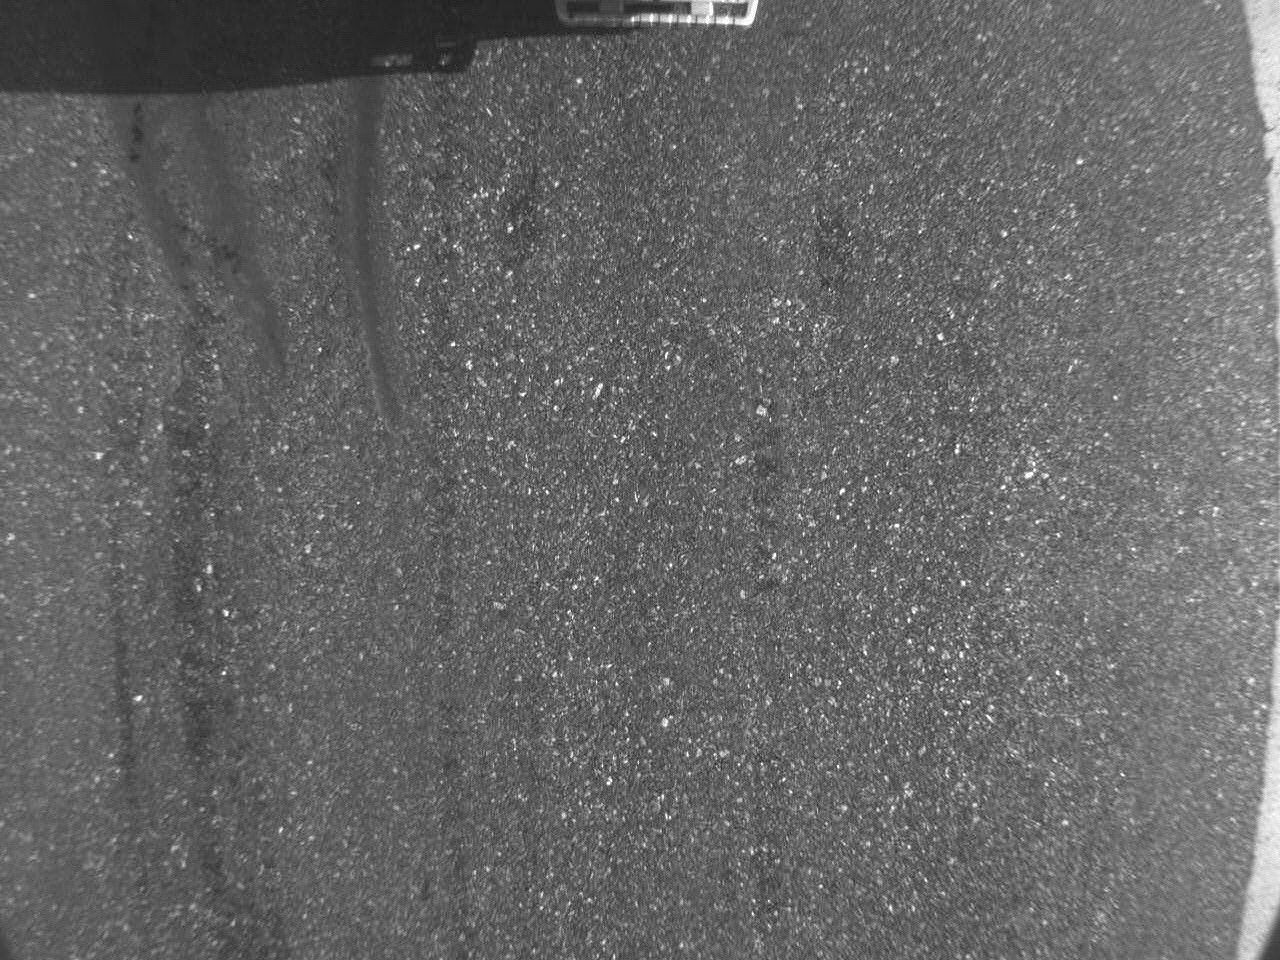sealed: (321, 35, 424, 450)
